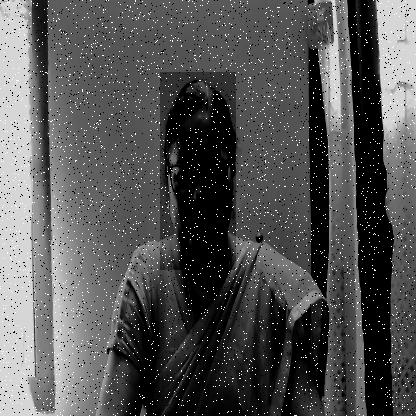Normal: (160, 72, 236, 270)
